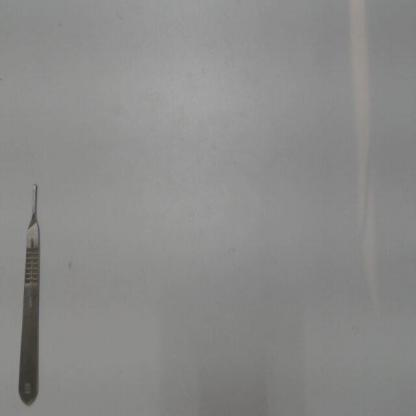No.3 BP Handle: (19, 176, 45, 408)
